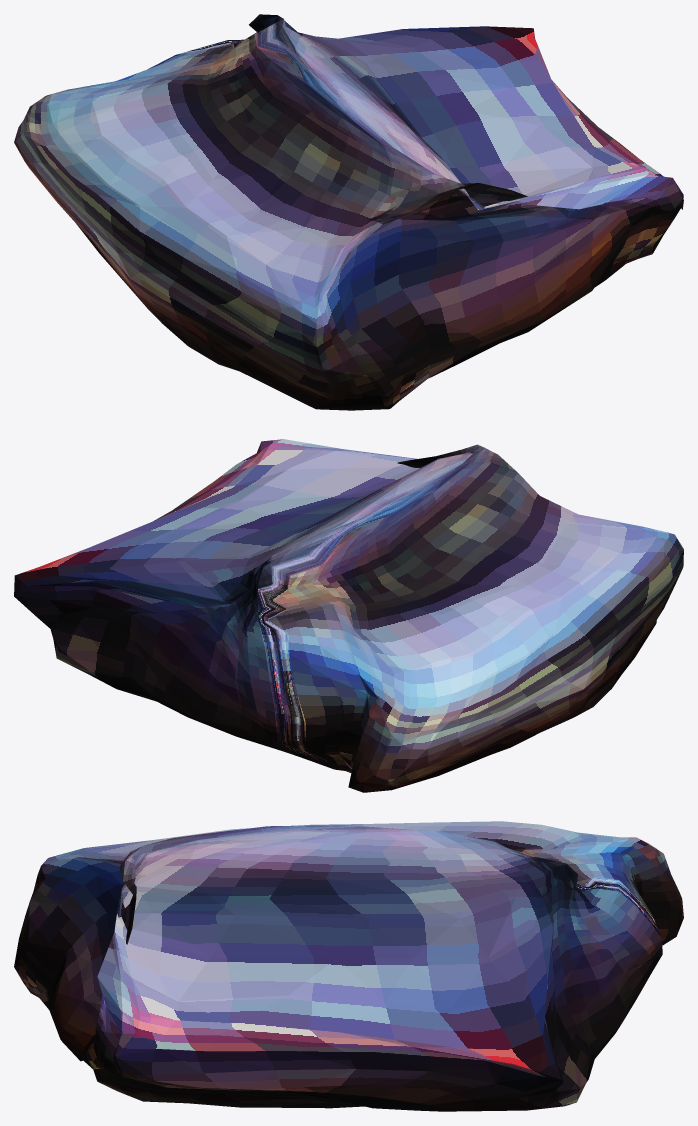
Rendered from video3_132.obj.
The picture shows the model from 3 angles, top to bottom: view 1: azimuth 30°, elevation 25°; view 2: azimuth 150°, elevation 25°; view 3: azimuth 270°, elevation 25°; orthographic projection. The views are drawn at different scales.
Bounding box in the file's own units: 0.9074 × 0.3707 × 1.
Materials: 1 (1 with a texture image).
